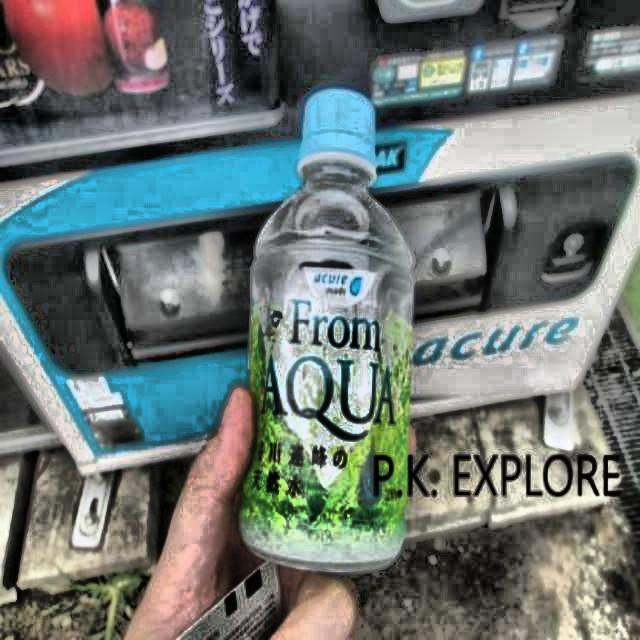plastic bottle: (240, 88, 414, 572)
